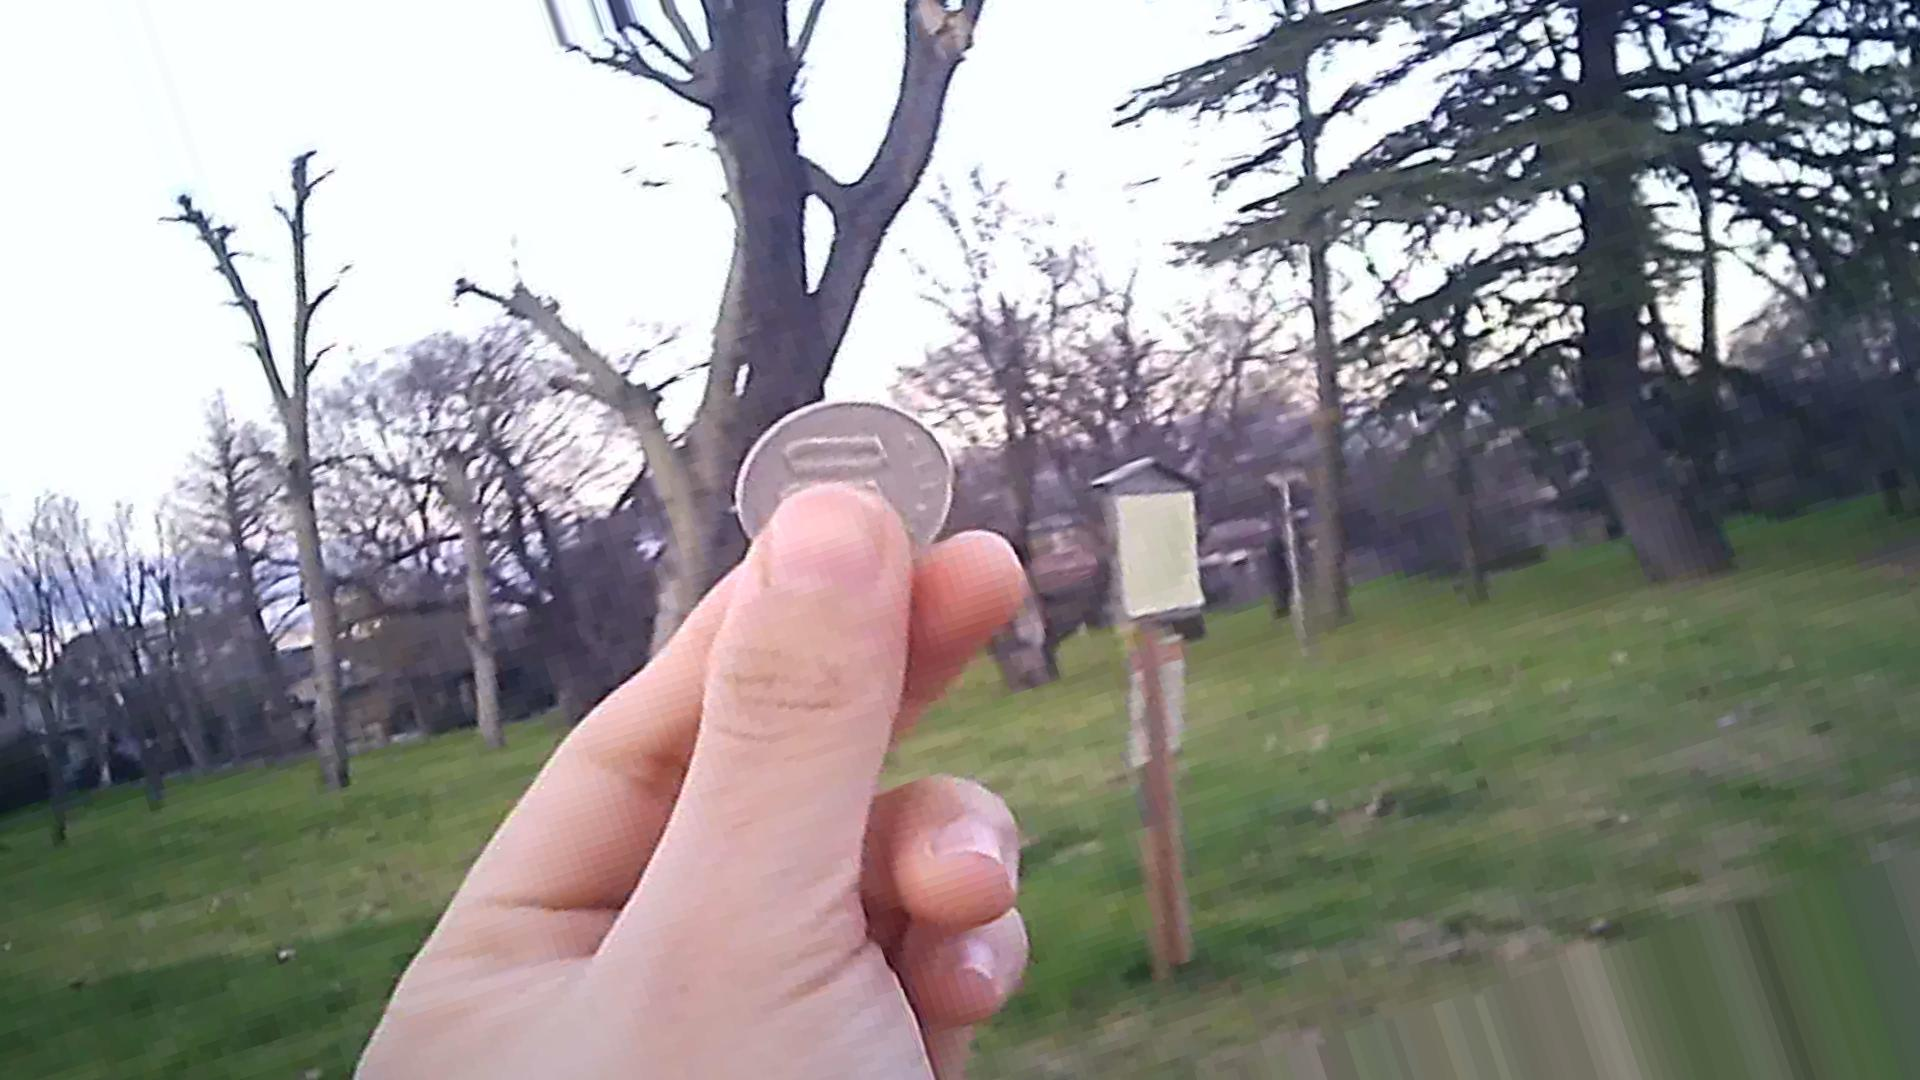100 Yen: (728, 386, 967, 578)
